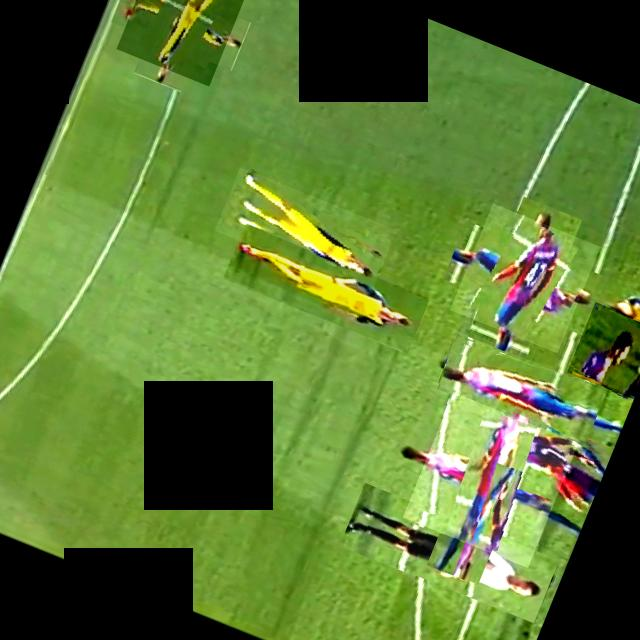referee: (338, 482, 558, 624)
soccer-player: (401, 392, 577, 568), (222, 224, 428, 352), (212, 166, 396, 294), (448, 202, 599, 352), (434, 331, 606, 445), (469, 398, 615, 522), (115, 0, 244, 85), (565, 301, 640, 399)
